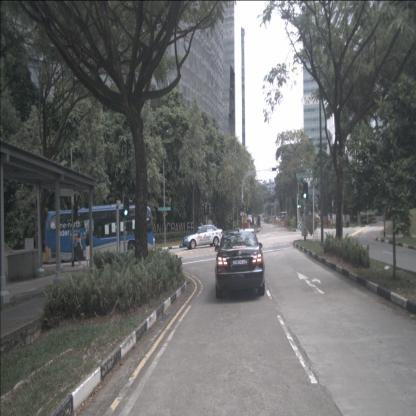barrier: (323, 220, 331, 228), (240, 223, 249, 229)
